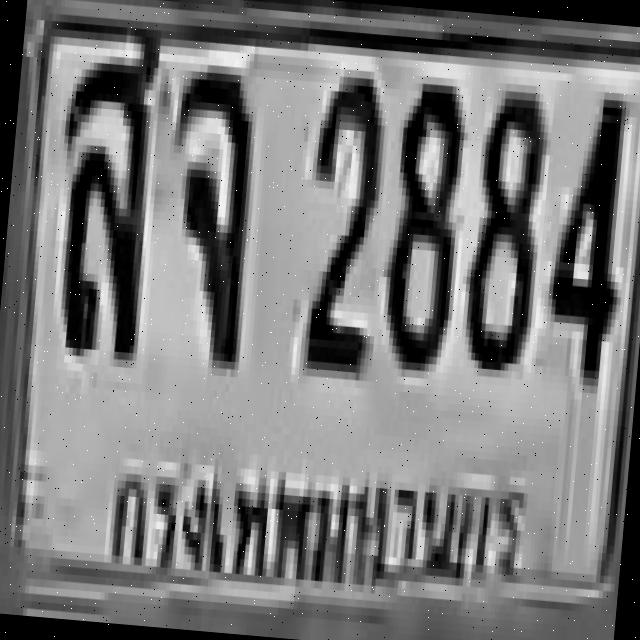17ChorChan: (156, 62, 260, 362)
2: (296, 67, 386, 365)
4: (542, 84, 627, 374)
49SorSuea: (42, 15, 162, 353)
8: (376, 74, 464, 365), (458, 81, 548, 364)
Bangkok: (95, 422, 542, 617)
